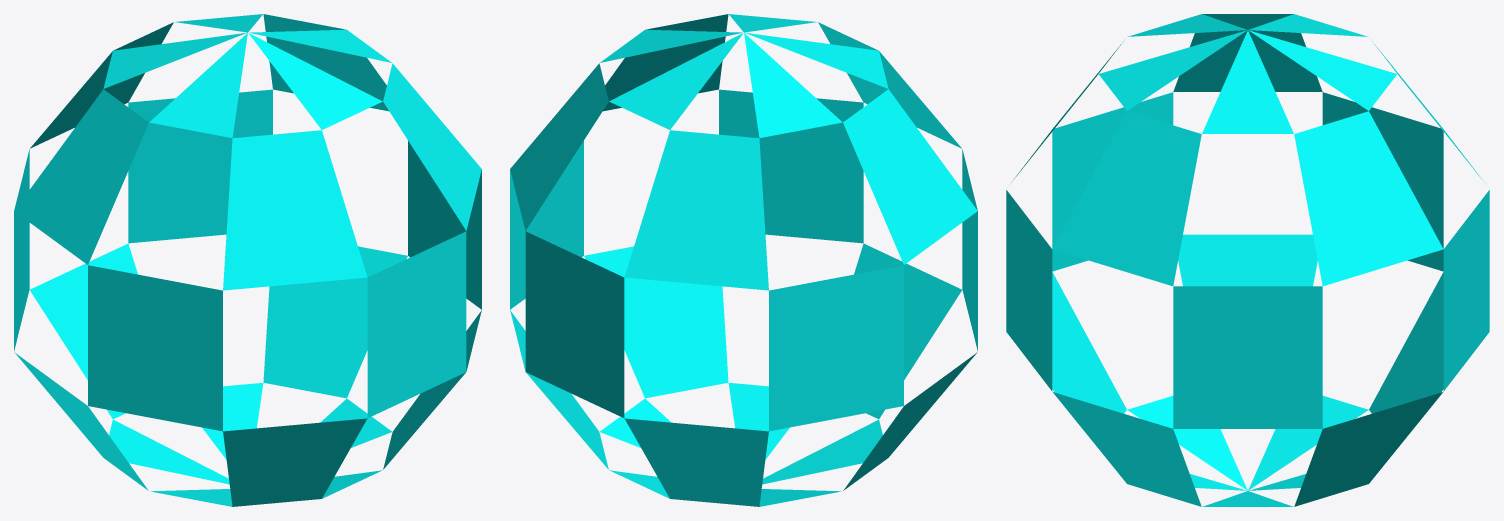
Rendered from blue core.fbx.
3 views of the same model, side by side, from view 1: azimuth 30°, elevation 25°; view 2: azimuth 150°, elevation 25°; view 3: azimuth 270°, elevation 25° (orthographic).
Parts seen in each view (by area): view 1: Sphere; view 2: Sphere; view 3: Sphere.
Boxes of the visible parts, x1,y1,x2,y2 form: Sphere: [14, 14, 481, 506]; Sphere: [510, 14, 977, 506]; Sphere: [1006, 14, 1489, 506].
Size of the model in its own units: 181 by 200 by 190.
